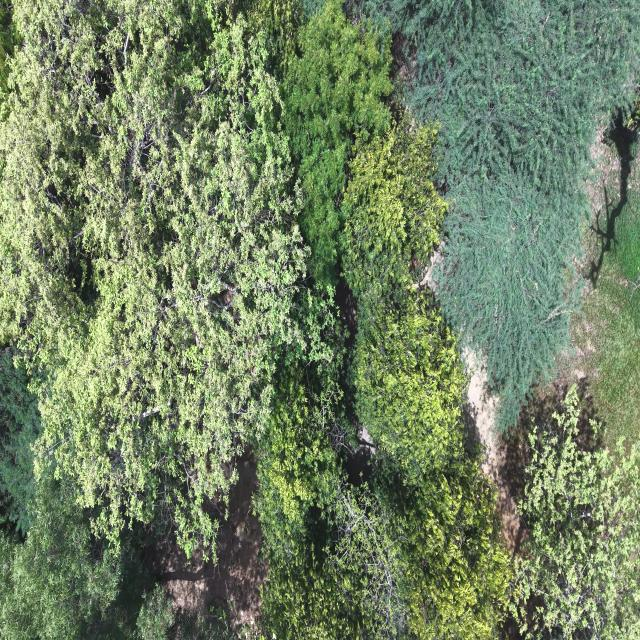DRY_AREA: (145, 448, 267, 625), (147, 449, 267, 624), (462, 348, 519, 550), (462, 349, 519, 550)
VEGETATION_TREE: (0, 0, 639, 639), (0, 2, 325, 553), (255, 2, 508, 636), (255, 2, 507, 637), (255, 2, 464, 635), (369, 0, 639, 425), (261, 454, 509, 639), (341, 125, 465, 480), (511, 388, 639, 639), (281, 1, 390, 284), (0, 481, 191, 639), (375, 454, 509, 639), (573, 95, 639, 446), (349, 291, 465, 477), (340, 120, 445, 317), (255, 362, 345, 559), (584, 189, 639, 445), (327, 483, 403, 639), (260, 536, 371, 639), (0, 347, 39, 532), (614, 189, 639, 309)
